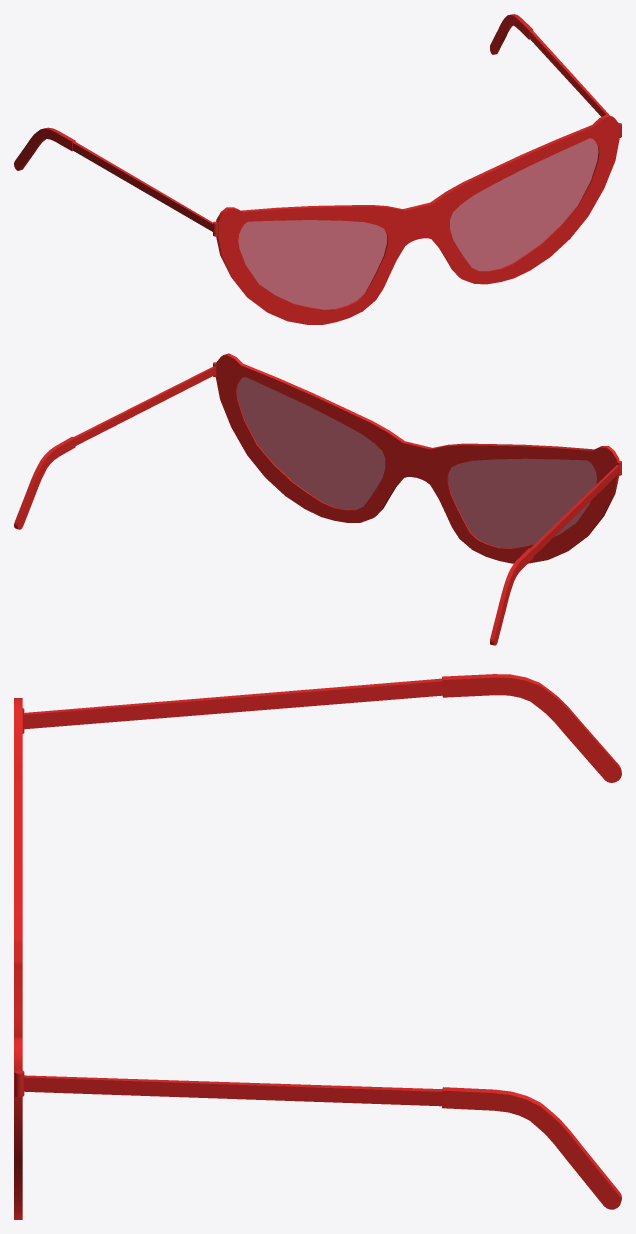
Rendered from glasses-15.glb.
3 renders of one model, top to bottom at view 1: azimuth 30°, elevation 25°; view 2: azimuth 150°, elevation 25°; view 3: azimuth 270°, elevation 25°, orthographic. The views are drawn at different scales.
Visible parts, largest first — view 1: glasses13.001; view 2: glasses13.001; view 3: glasses13.001.
Boxes of the visible parts, x1,y1,x2,y2 form: glasses13.001: [14, 14, 621, 324]; glasses13.001: [14, 353, 621, 645]; glasses13.001: [14, 674, 621, 1219].
Bounding box in the file's own units: 2.43 × 0.6746 × 1.45.
